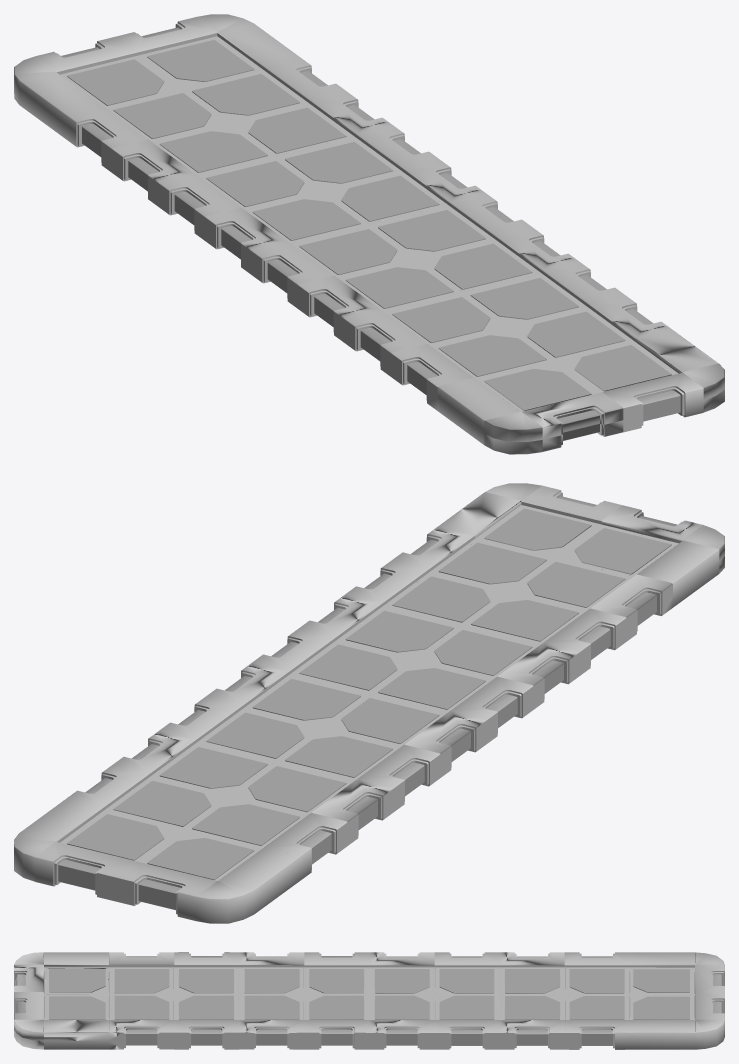
Rendered from Platform_4.FBX.
3 views of the same model, one above another, from view 1: azimuth 30°, elevation 25°; view 2: azimuth 150°, elevation 25°; view 3: azimuth 270°, elevation 25° (orthographic). The views are drawn at different scales.
Visible parts, largest first — view 1: Curb_007; view 2: Curb_007; view 3: Curb_007.
Part boxes in pixels (x1,y1,x2,y2): Curb_007: (14,14,724,454); Curb_007: (14,483,724,923); Curb_007: (14,952,724,1049).
Bounding box in the file's own units: 205 × 21.34 × 765.
4 materials, 4 textured.
